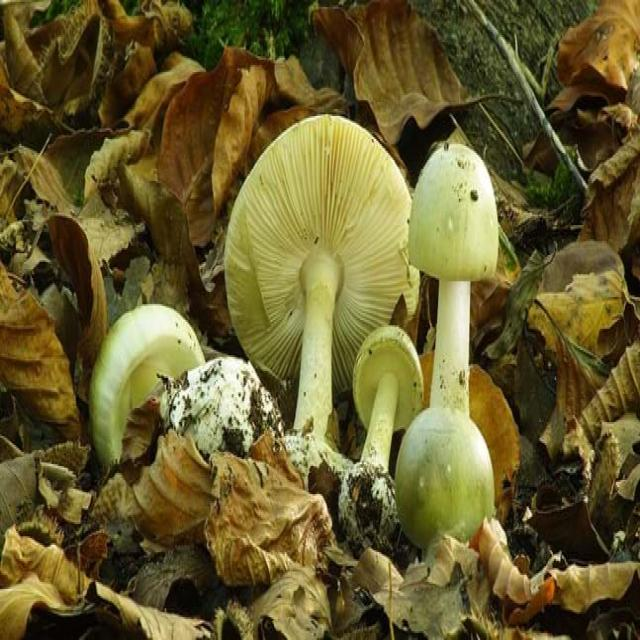death-cap: (224, 114, 411, 434), (409, 142, 500, 417), (353, 327, 423, 461)
